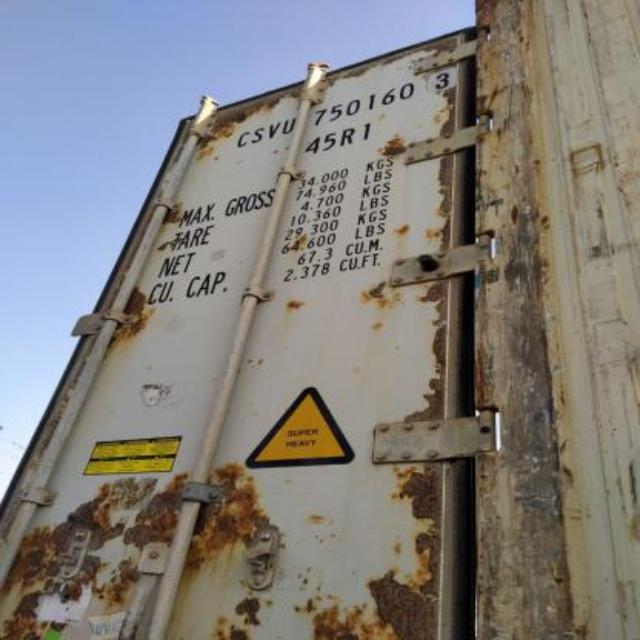0: (398, 82, 414, 100), (348, 99, 360, 115)
1: (365, 93, 375, 111)
3: (434, 72, 450, 90)
5: (330, 103, 344, 123)
6: (382, 87, 394, 105)
7: (312, 109, 326, 125)
C: (236, 130, 248, 146)
S: (253, 127, 263, 143)
U: (284, 120, 296, 132)
V: (269, 123, 281, 139)
